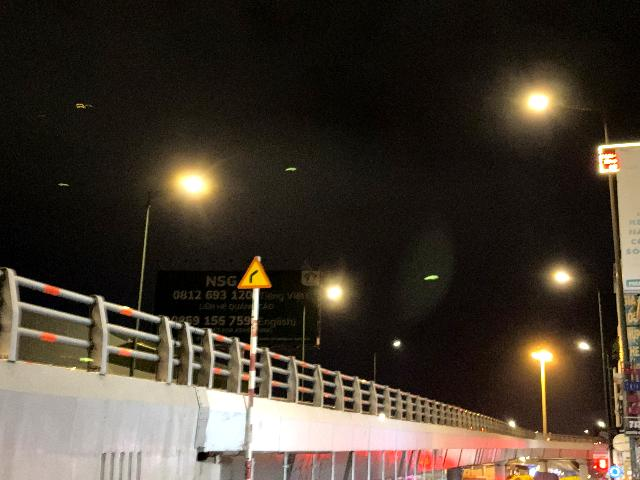cho-ngoat-nguy-hiem-ben-phai: (237, 255, 271, 288)
